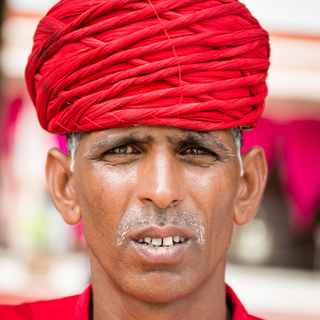eye: (174, 138, 223, 166), (97, 138, 146, 163)
